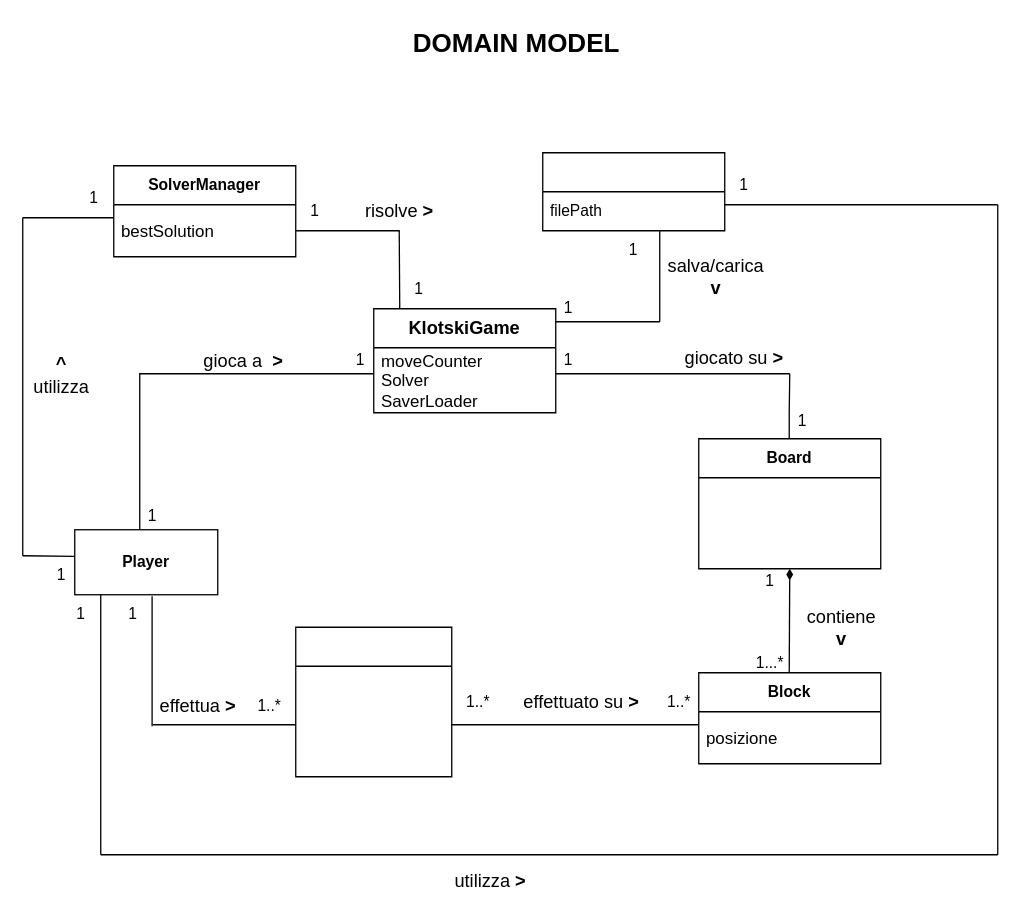
Image size: 1022x915. Some labels were removed from this diagram. Each missing label, with the box of its shape:
Operation: (294, 626, 452, 777)
SaveLoadManager: (541, 151, 725, 231)
